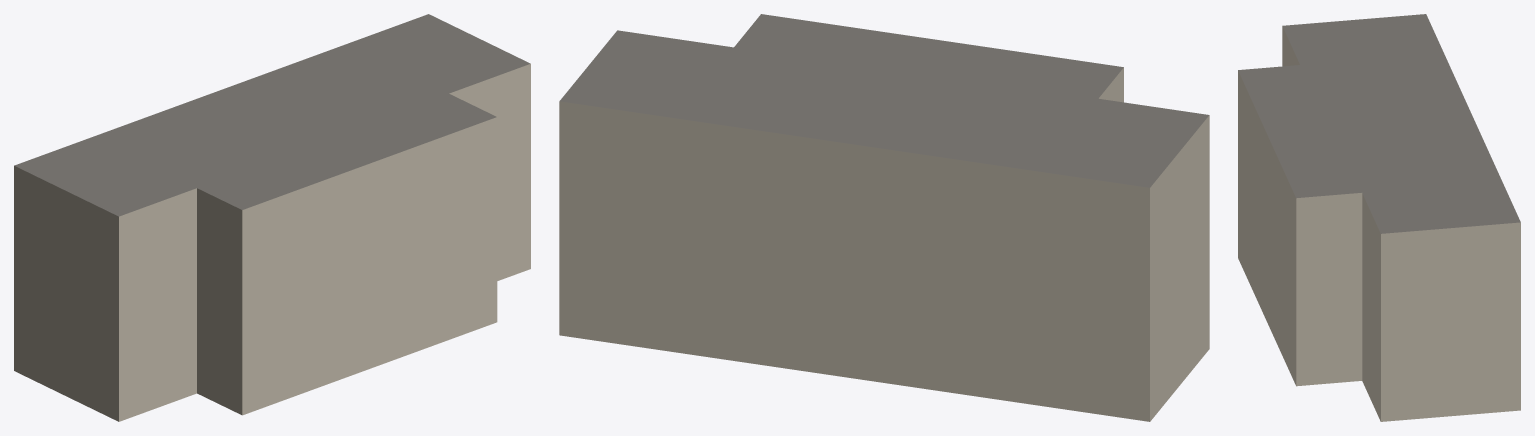
The picture shows the model from 3 angles, left to right: view 1: azimuth 30°, elevation 25°; view 2: azimuth 150°, elevation 25°; view 3: azimuth 270°, elevation 25°; orthographic projection. The views are drawn at different scales.
Visible parts, largest first — view 1: HP-w1323525527; view 2: HP-w1323525527; view 3: HP-w1323525527.
Part boxes in pixels (x1,y1,x2,y2): HP-w1323525527: [14, 14, 530, 421]; HP-w1323525527: [559, 14, 1209, 421]; HP-w1323525527: [1238, 14, 1520, 421].
Bounding box in the file's own units: 45.14 × 18 × 24.54.
